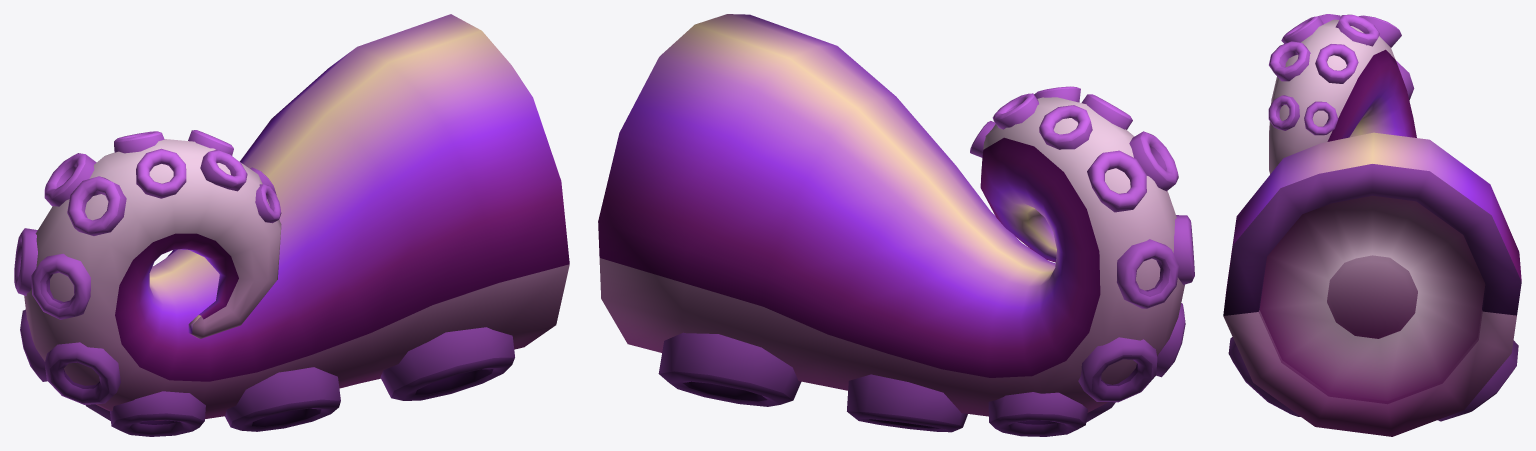
File: Tentacle_Purple.fbx
The picture shows the model from 3 angles, left to right: view 1: azimuth 30°, elevation 25°; view 2: azimuth 150°, elevation 25°; view 3: azimuth 270°, elevation 25°; orthographic projection. The views are drawn at different scales.
Visible parts, largest first — view 1: Tentacle_base Purple; view 2: Tentacle_base Purple; view 3: Tentacle_base Purple.
Boxes of the visible parts, x1,y1,x2,y2 form: Tentacle_base Purple: (14,14,569,436); Tentacle_base Purple: (598,14,1194,436); Tentacle_base Purple: (1223,14,1521,436).
Bounding box in the file's own units: 3.35 × 2.21 × 2.07.
